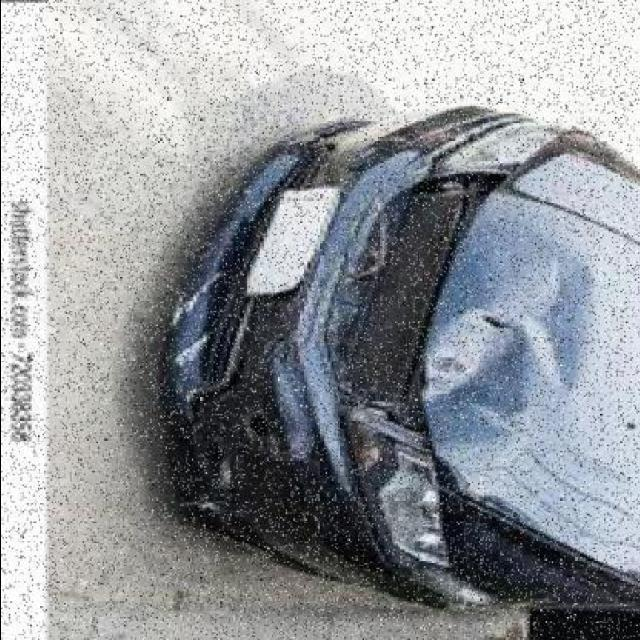bonnet-dent: (400, 155, 640, 537)
front-bumper-dent: (162, 173, 371, 523)
